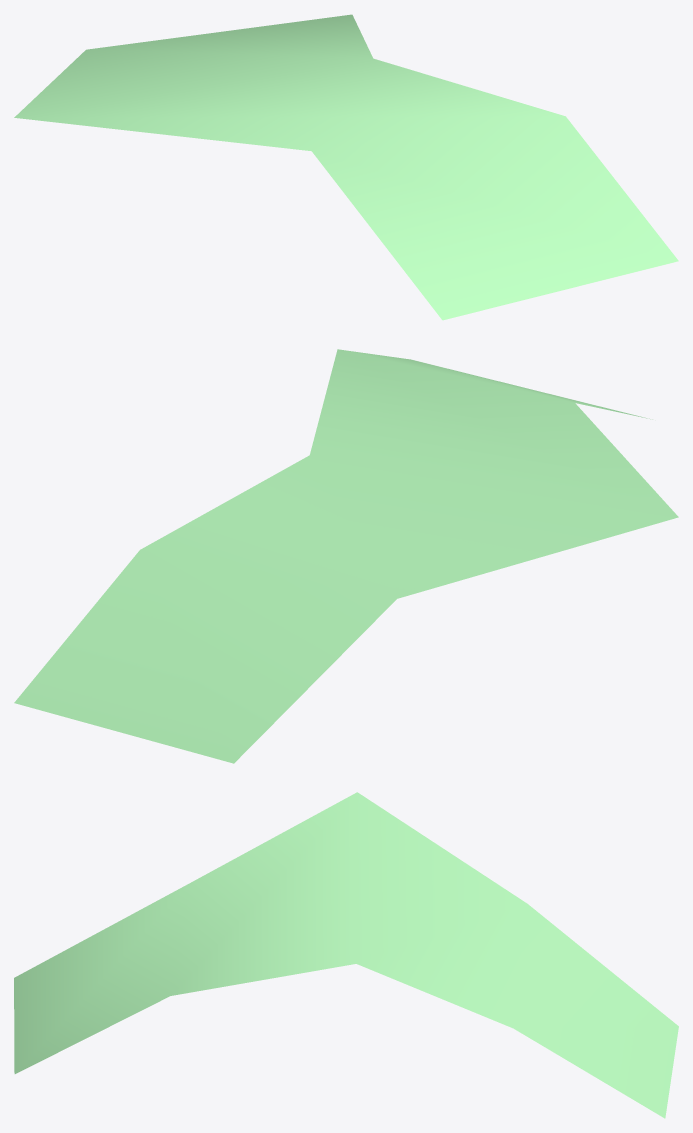
Rendered from change_1.fbx.
The picture shows the model from 3 angles, top to bottom: view 1: azimuth 30°, elevation 25°; view 2: azimuth 150°, elevation 25°; view 3: azimuth 270°, elevation 25°; orthographic projection. The views are drawn at different scales.
Parts seen in each view (by area): view 1: change_1; view 2: change_1; view 3: change_1.
Part boxes in pixels (<box>): change_1: <box>14,14,678,320</box>; change_1: <box>14,349,678,763</box>; change_1: <box>14,792,678,1118</box>.
Size of the model in its own units: 4.84 by 1.6 by 7.11.
